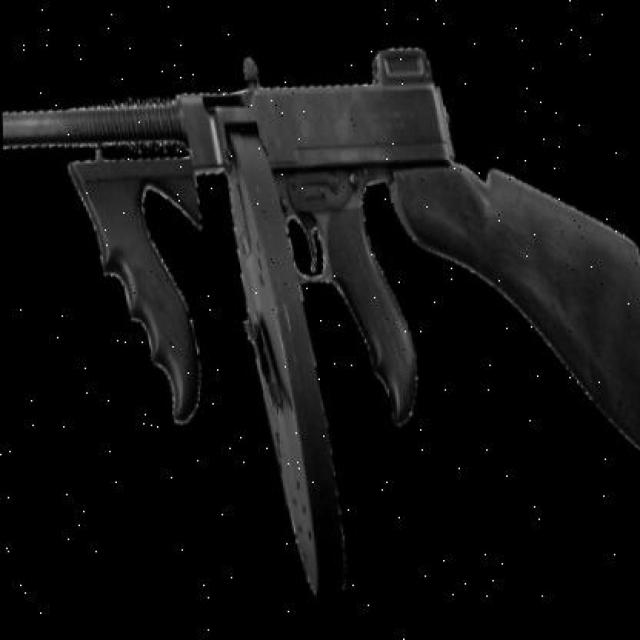weapon: (3, 42, 639, 600)
